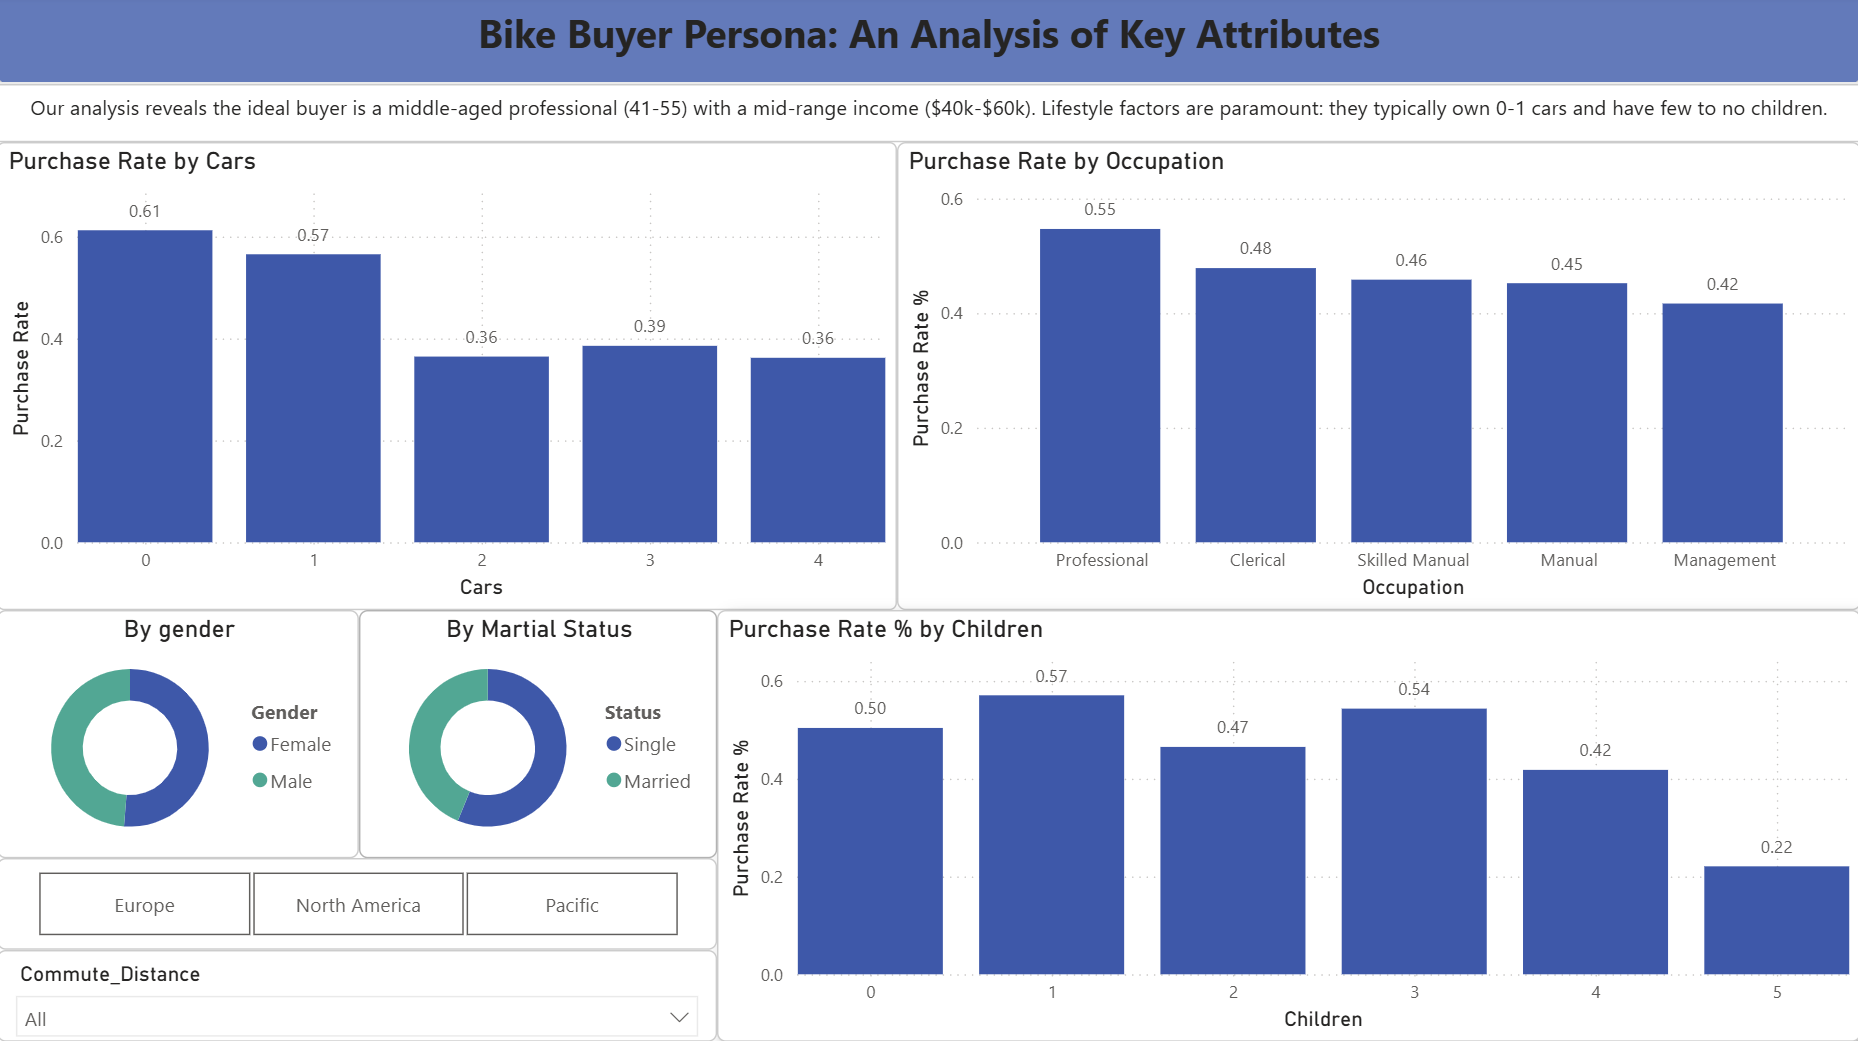

This screenshot's page, from the dashboard's own definition file:
{"tool":"powerbi","page":{"name":"Page 1","canvas":[1280,720],"ordinal":0},"visuals":[{"type":"textbox","box":[0,0,1280,61.8],"z":0},{"type":"textbox","box":[0,61.8,1280,39.8],"z":1000},{"type":"clusteredColumnChart","fields":{"Y":["bike_buyers.Purchase Rate %"],"Category":["bike_buyers.Cars"]},"box":[0,101.6,618,321.4],"z":2000},{"type":"clusteredColumnChart","title":"Purchase Rate by Occupation","fields":{"Y":["bike_buyers.urchase Rate %"],"Category":["bike_buyers.Occupation"]},"box":[618,101.6,662,321.4],"z":3000},{"type":"clusteredColumnChart","fields":{"Y":["bike_buyers.urchase Rate %"],"Category":["bike_buyers.Children"]},"box":[494.4,423,785.6,296.7],"z":4000},{"type":"donutChart","title":"By Martial Status","fields":{"Category":["bike_buyers.Marital_Status"],"Y":["bike_buyers.urchase Rate %"]},"box":[248.6,423,245.8,170.3],"z":5000},{"type":"slicer","fields":{"Values":["bike_buyers.Region"]},"box":[0,593.3,494.4,63.2],"z":6000},{"type":"slicer","fields":{"Values":["bike_buyers.Commute_Distance"]},"box":[0,656.5,494.4,63.2],"z":7000},{"type":"donutChart","title":"By gender","fields":{"Y":["bike_buyers.urchase Rate %"],"Category":["bike_buyers.Gender"]},"box":[0,423,248.6,170.3],"z":8000}]}

Visuals, with their boxes in screenshot pixels (x1, y1, x2, y2), scaled from the page's 1280x720 canvas onto the 1858x1041 screenshot:
textbox: Rect(0, 0, 1857, 89)
textbox: Rect(0, 89, 1857, 147)
clusteredColumnChart - bike_buyers.Purchase Rate % x bike_buyers.Cars: Rect(0, 147, 897, 612)
"Purchase Rate by Occupation" clusteredColumnChart: Rect(897, 147, 1857, 612)
clusteredColumnChart - bike_buyers.urchase Rate % x bike_buyers.Children: Rect(718, 612, 1857, 1040)
"By Martial Status" donutChart: Rect(361, 612, 718, 858)
slicer - bike_buyers.Region: Rect(0, 858, 718, 949)
slicer - bike_buyers.Commute_Distance: Rect(0, 949, 718, 1040)
"By gender" donutChart: Rect(0, 612, 361, 858)
